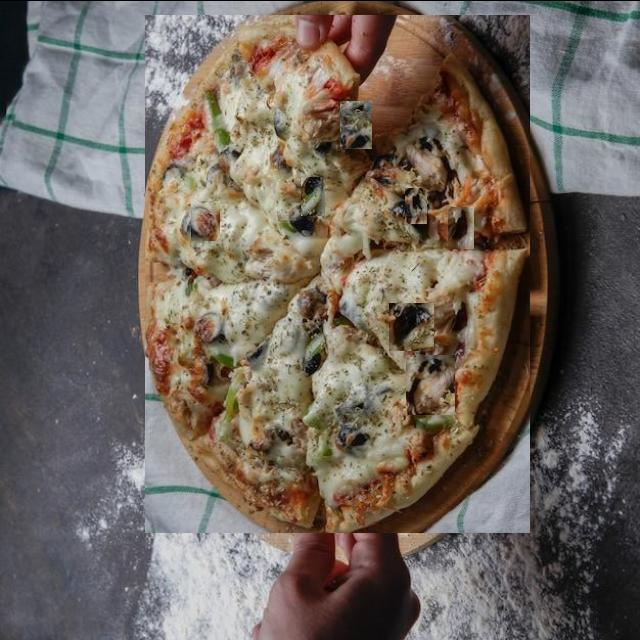olive: (406, 354, 455, 414), (389, 302, 434, 350), (340, 100, 372, 148), (191, 200, 220, 240), (288, 311, 316, 351), (448, 206, 474, 248), (301, 176, 325, 215), (405, 187, 427, 223), (186, 300, 204, 334)
pizza: (145, 14, 530, 532)
